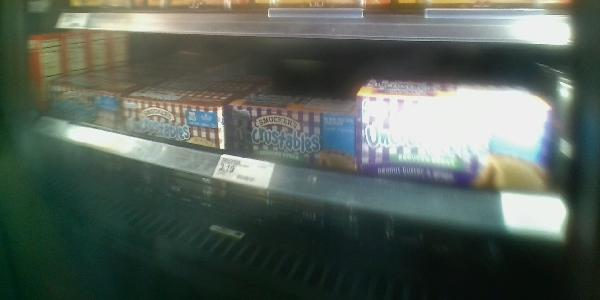icecream: (356, 71, 553, 189), (228, 102, 360, 178), (124, 89, 226, 158), (45, 74, 126, 131)
